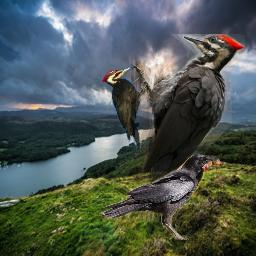Crow: (99, 151, 232, 240)
Woodpecker: (131, 34, 245, 222), (99, 66, 147, 148)
